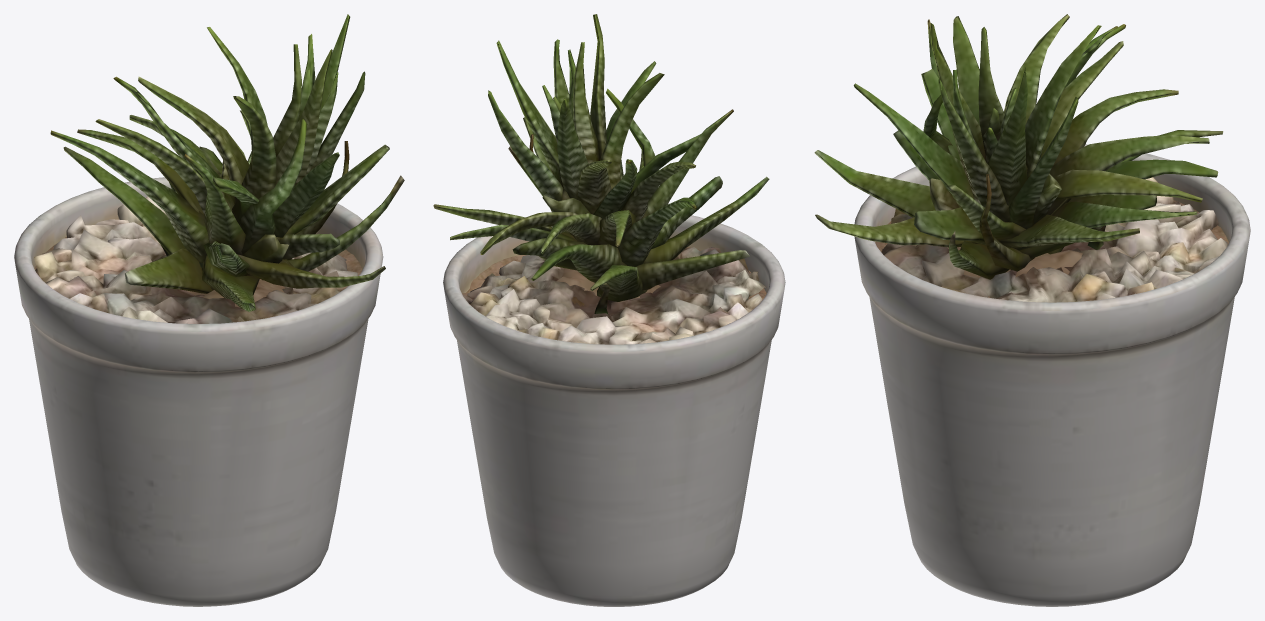
The picture shows the model from 3 angles, left to right: view 1: azimuth 30°, elevation 25°; view 2: azimuth 150°, elevation 25°; view 3: azimuth 270°, elevation 25°; orthographic projection. The views are drawn at different scales.
Visible parts, largest first — view 1: potted_plant_04_pot, potted_plant_04_plant, potted_plant_04_ground, potted_plant_04_dirt; view 2: potted_plant_04_pot, potted_plant_04_plant, potted_plant_04_ground, potted_plant_04_dirt; view 3: potted_plant_04_pot, potted_plant_04_plant, potted_plant_04_ground, potted_plant_04_dirt.
Boxes of the visible parts, x1,y1,x2,y2 form: potted_plant_04_pot: [14, 177, 383, 606]; potted_plant_04_plant: [50, 14, 404, 311]; potted_plant_04_ground: [34, 196, 357, 323]; potted_plant_04_dirt: [34, 236, 362, 307]; potted_plant_04_pot: [443, 215, 785, 606]; potted_plant_04_plant: [433, 14, 769, 314]; potted_plant_04_ground: [462, 247, 766, 344]; potted_plant_04_dirt: [462, 247, 766, 306]; potted_plant_04_pot: [854, 144, 1250, 606]; potted_plant_04_plant: [814, 14, 1223, 279]; potted_plant_04_ground: [881, 177, 1227, 302]; potted_plant_04_dirt: [875, 200, 1228, 297].
Size of the model in its own units: 0.1679 by 0.2672 by 0.1845.
1 material, 1 textured.
